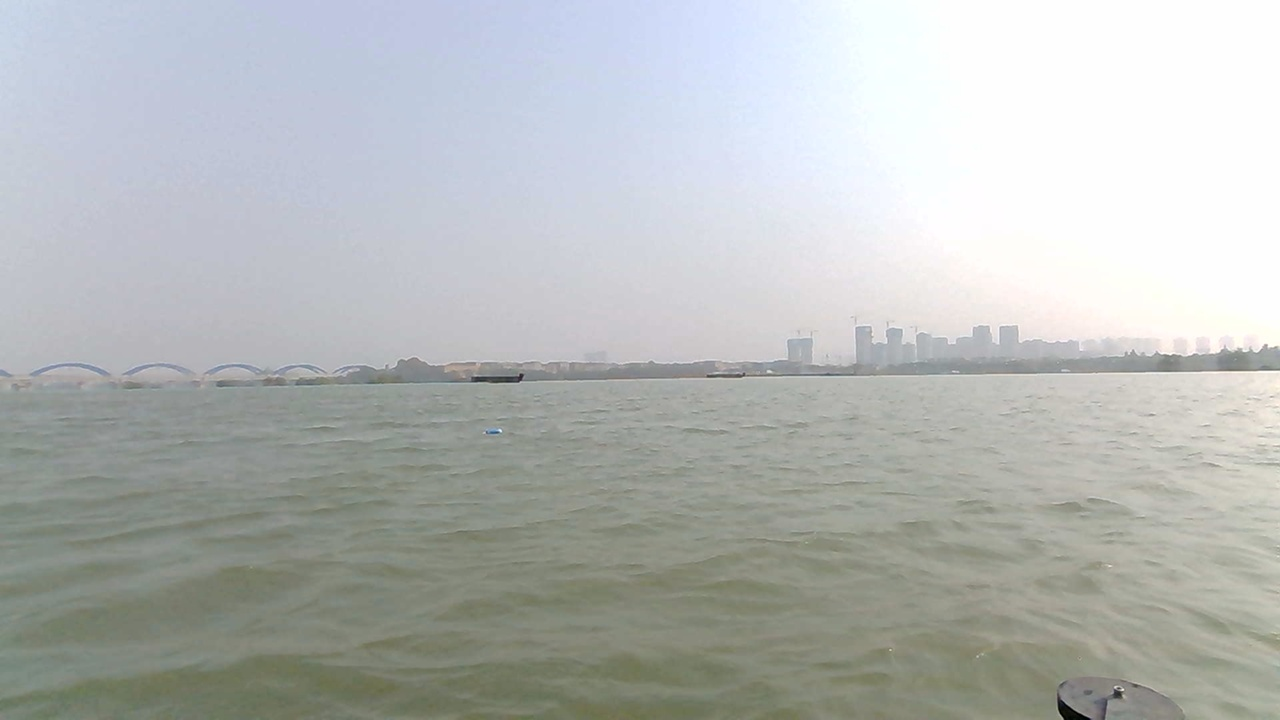bottle: (480, 424, 510, 439)
